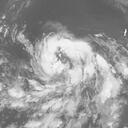cyclone: (32, 32, 95, 84)
